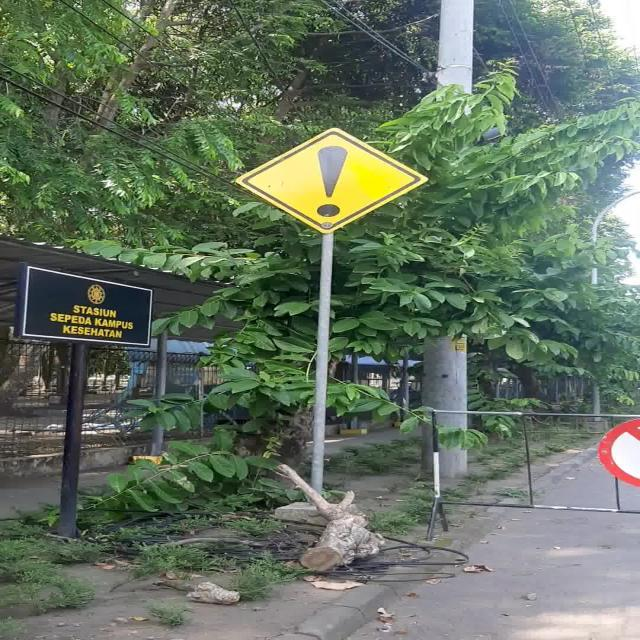Hati-Hati: (236, 126, 428, 234)
